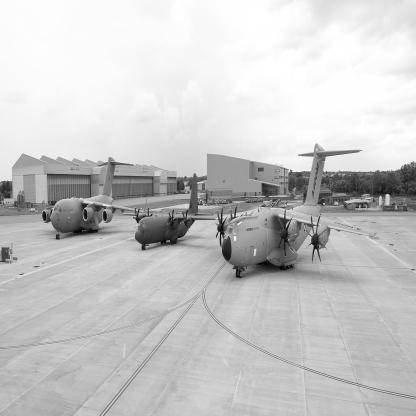A400M: (216, 144, 379, 280)
C130: (124, 174, 219, 251)
C17: (42, 157, 148, 241)
